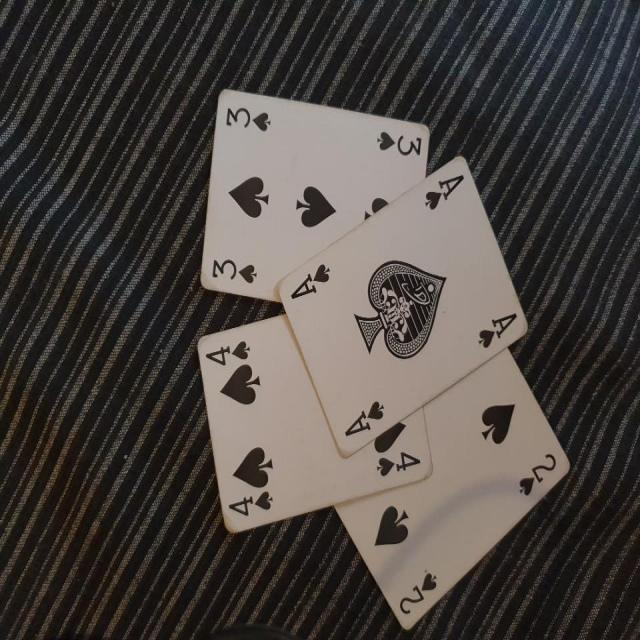2 Spades: (352, 339, 586, 640)
3 Spades: (191, 78, 431, 307)
4 Spades: (182, 314, 440, 538)
A Spades: (281, 149, 530, 456)
